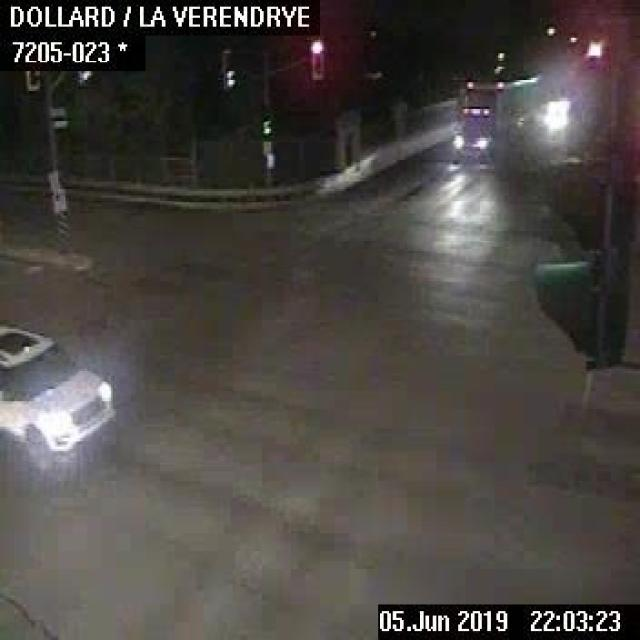vehicle: (0, 318, 111, 464), (448, 69, 546, 158)
